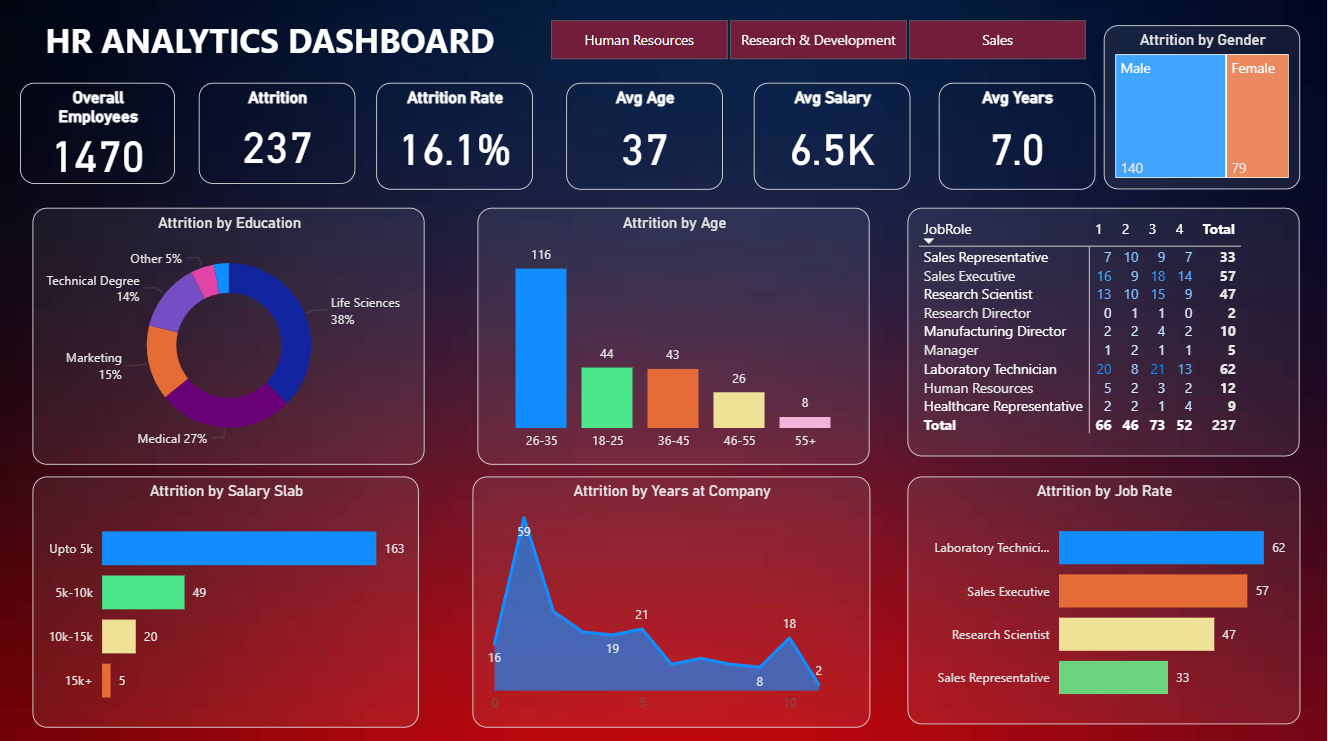

What the dashboard file says about the page in this screenshot:
{"tool":"powerbi","page":{"name":"Page 1","canvas":[1280,720],"ordinal":0},"visuals":[{"type":"card","title":"Overall Employees","fields":{"Values":["Count(HR_Analytics.EmpID)"]},"box":[19.1,80.6,149.6,97.4],"z":0},{"type":"card","title":"Attrition","fields":{"Values":["Sum(HR_Analytics.AttritionCount)"]},"box":[192,80.6,150.9,97.4],"z":1000},{"type":"card","title":"Attrition Rate","fields":{"Values":["select","HR_Analytics.AttritionRate"]},"box":[363.5,80.6,150.9,102.9],"z":2000},{"type":"card","title":"Avg Age","fields":{"Values":["Avg(HR_Analytics.Age)"]},"box":[546.1,80.6,150.9,102.9],"z":3000},{"type":"card","title":"Avg Salary","fields":{"Values":["Avg(HR_Analytics.MonthlyIncome)"]},"box":[727.2,80.6,150.9,102.9],"z":4000},{"type":"card","title":"Avg Years","fields":{"Values":["Avg(HR_Analytics.YearsAtCompany)"]},"box":[905.6,80.6,150.9,102.9],"z":5000},{"type":"donutChart","title":"Attrition by Education","fields":{"Category":["HR_Analytics.EducationField"],"Y":["Sum(HR_Analytics.AttritionCount)"]},"box":[31.7,201.9,378.7,248.4],"z":6000},{"type":"columnChart","title":"Attrition by Age","fields":{"Category":["HR_Analytics.AgeGroup"],"Y":["Sum(HR_Analytics.AttritionCount)"]},"box":[461.2,201.9,378.7,248.4],"z":7000},{"type":"pivotTable","fields":{"Rows":["HR_Analytics.JobRole"],"Columns":["HR_Analytics.JobSatisfaction"],"Values":["Sum(HR_Analytics.AttritionCount)"]},"box":[875.6,201.9,378.7,240.1],"z":8000},{"type":"barChart","title":"Attrition by Salary Slab","fields":{"Category":["HR_Analytics.SalarySlab"],"Y":["Sum(HR_Analytics.AttritionCount)"]},"box":[31.4,460.9,372.8,242.5],"z":9000},{"type":"barChart","title":"Attrition by Job Rate","fields":{"Y":["Sum(HR_Analytics.AttritionCount)"],"Category":["HR_Analytics.JobRole"]},"box":[875.9,460.9,378.8,238.9],"z":10000},{"type":"areaChart","title":"Attrition by Years at Company","fields":{"Category":["HR_Analytics.YearsAtCompany"],"Y":["Sum(HR_Analytics.AttritionCount)"]},"box":[456,460.9,383.6,242.5],"z":11000},{"type":"treemap","title":"Attrition by Gender","fields":{"Group":["HR_Analytics.Gender"],"Values":["Sum(HR_Analytics.AttritionCount)"]},"box":[1065.3,25.3,189.4,158],"z":12000},{"type":"slicer","fields":{"Values":["HR_Analytics.Department"]},"box":[505,13.7,566.7,52.1],"z":13000},{"type":"textbox","box":[38.4,13.7,570.8,65.9],"z":14000}]}

Visuals, with their boxes in screenshot pixels (x1, y1, x2, y2), scaled from the page's 1280x720 canvas onto the 1328x741 screenshot:
"Overall Employees" card: <box>20,83,175,183</box>
"Attrition" card: <box>199,83,356,183</box>
"Attrition Rate" card: <box>377,83,534,189</box>
"Avg Age" card: <box>567,83,723,189</box>
"Avg Salary" card: <box>754,83,911,189</box>
"Avg Years" card: <box>940,83,1096,189</box>
"Attrition by Education" donutChart: <box>33,208,426,463</box>
"Attrition by Age" columnChart: <box>478,208,871,463</box>
pivotTable - HR_Analytics.JobRole x HR_Analytics.JobSatisfaction: <box>908,208,1301,455</box>
"Attrition by Salary Slab" barChart: <box>33,474,419,724</box>
"Attrition by Job Rate" barChart: <box>909,474,1302,720</box>
"Attrition by Years at Company" areaChart: <box>473,474,871,724</box>
"Attrition by Gender" treemap: <box>1105,26,1302,189</box>
slicer - HR_Analytics.Department: <box>524,14,1112,68</box>
textbox: <box>40,14,632,82</box>
